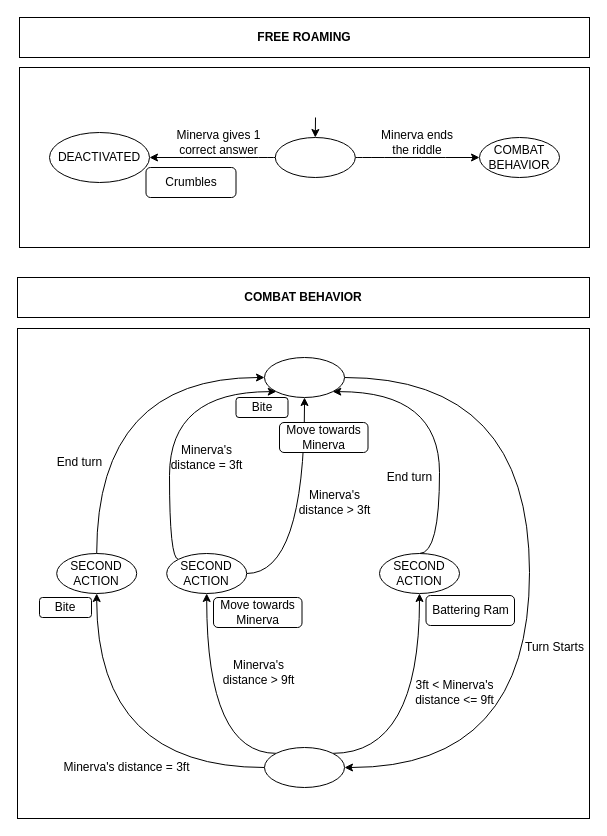
The diagram is 607 pixels wide and 836 high, and some of its shapes have lost their labels. Each missing label, with the centre of its shape:
"FIRST ACTION" belongs at [304,767].
"INACTIVE" belongs at [314,157].
"WAIT TURN" belongs at [304,377].
